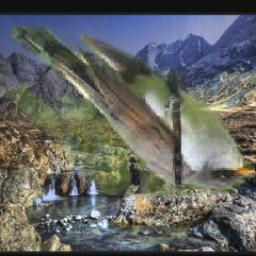Cuckoo: (7, 26, 256, 196)
